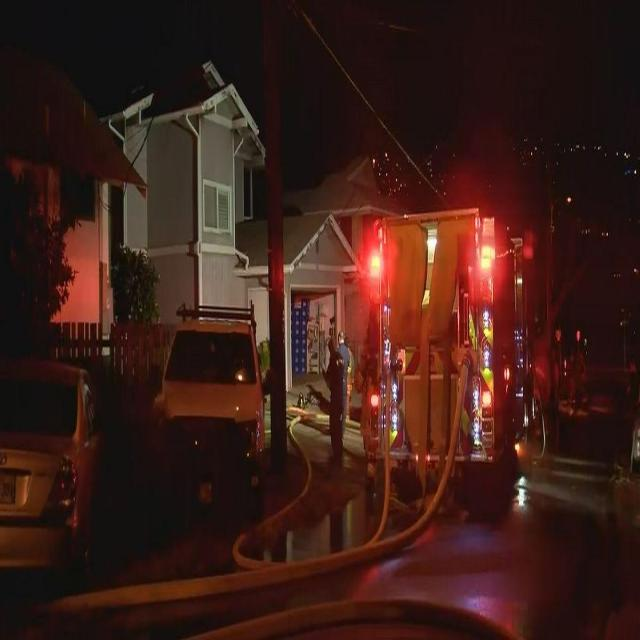other: (468, 211, 513, 302), (356, 219, 399, 298)
